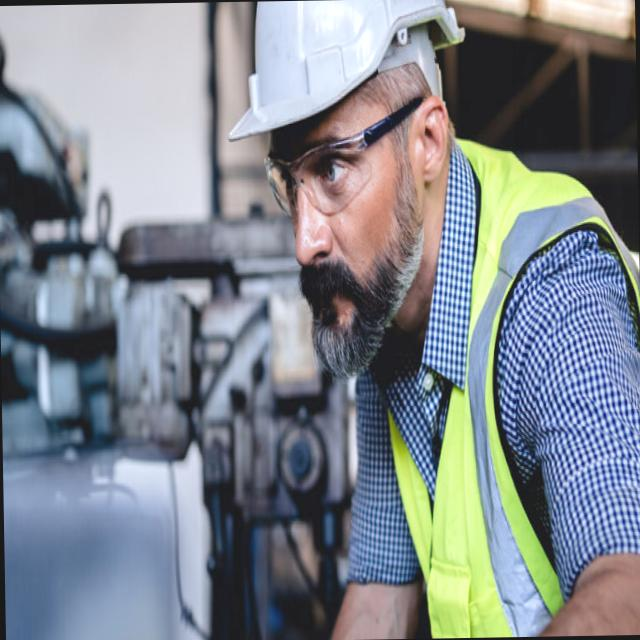goggles: (264, 90, 431, 226)
helmet: (221, 0, 471, 153)
vest: (379, 126, 640, 638)
